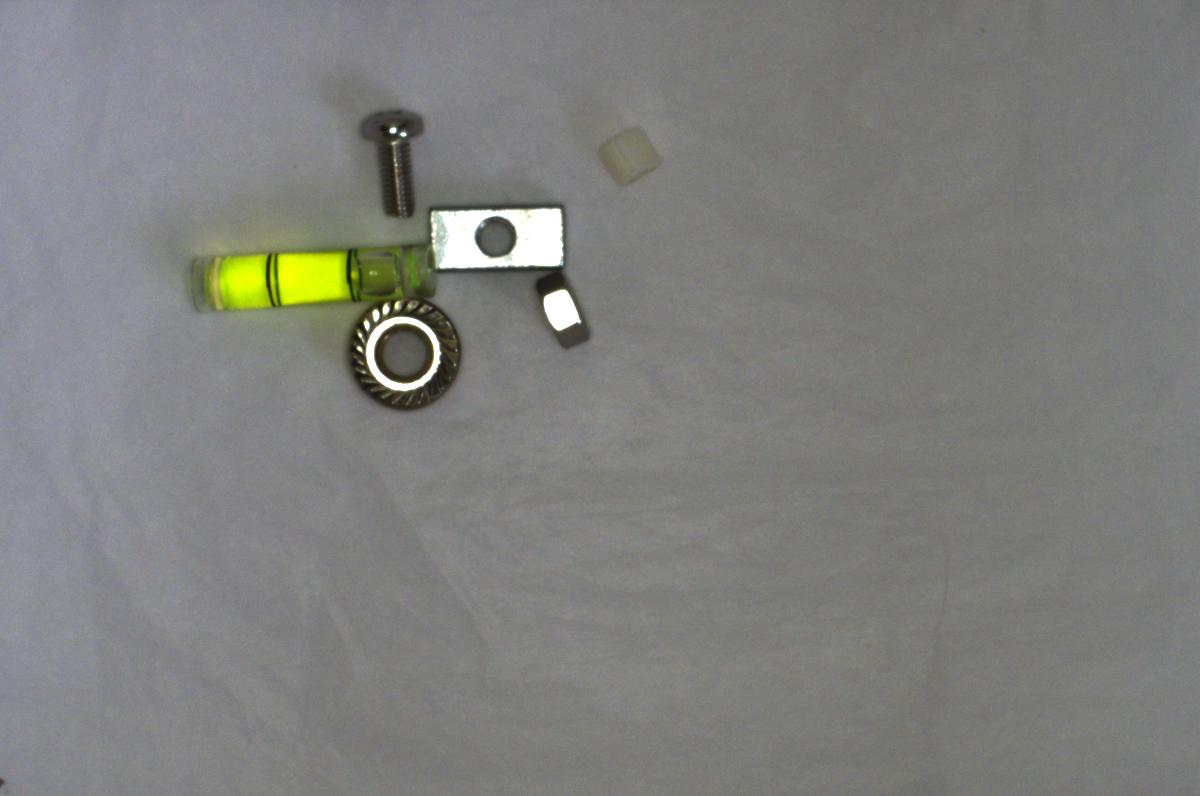Flange nut: (334, 298, 473, 418)
Hexagon nut: (526, 270, 606, 355)
Horizontal bubble: (181, 234, 448, 321)
Plastic cushion pillar: (597, 113, 662, 192)
Rectangular nut: (431, 200, 570, 275)
Round head screw: (351, 98, 430, 219)
